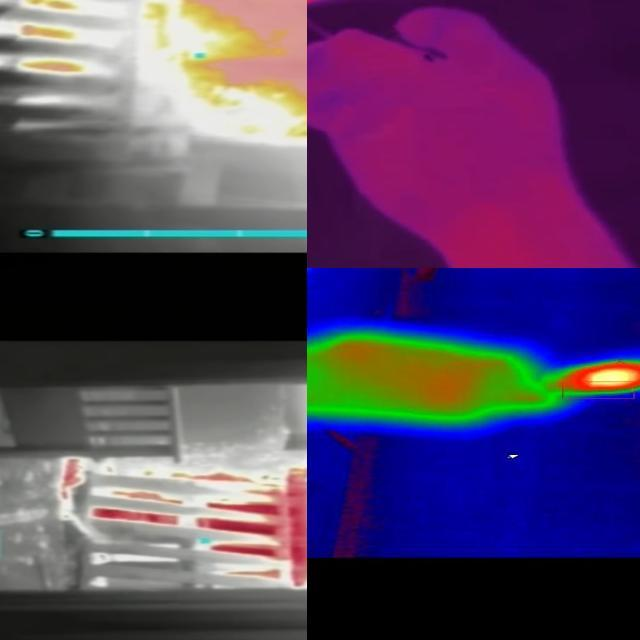fire: (179, 1, 308, 166), (198, 453, 308, 587), (548, 354, 640, 398)
